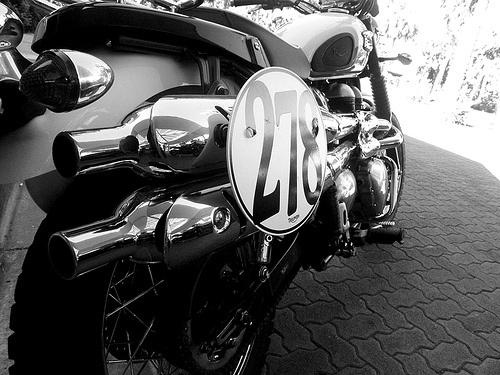motorbike: (8, 2, 405, 374)
